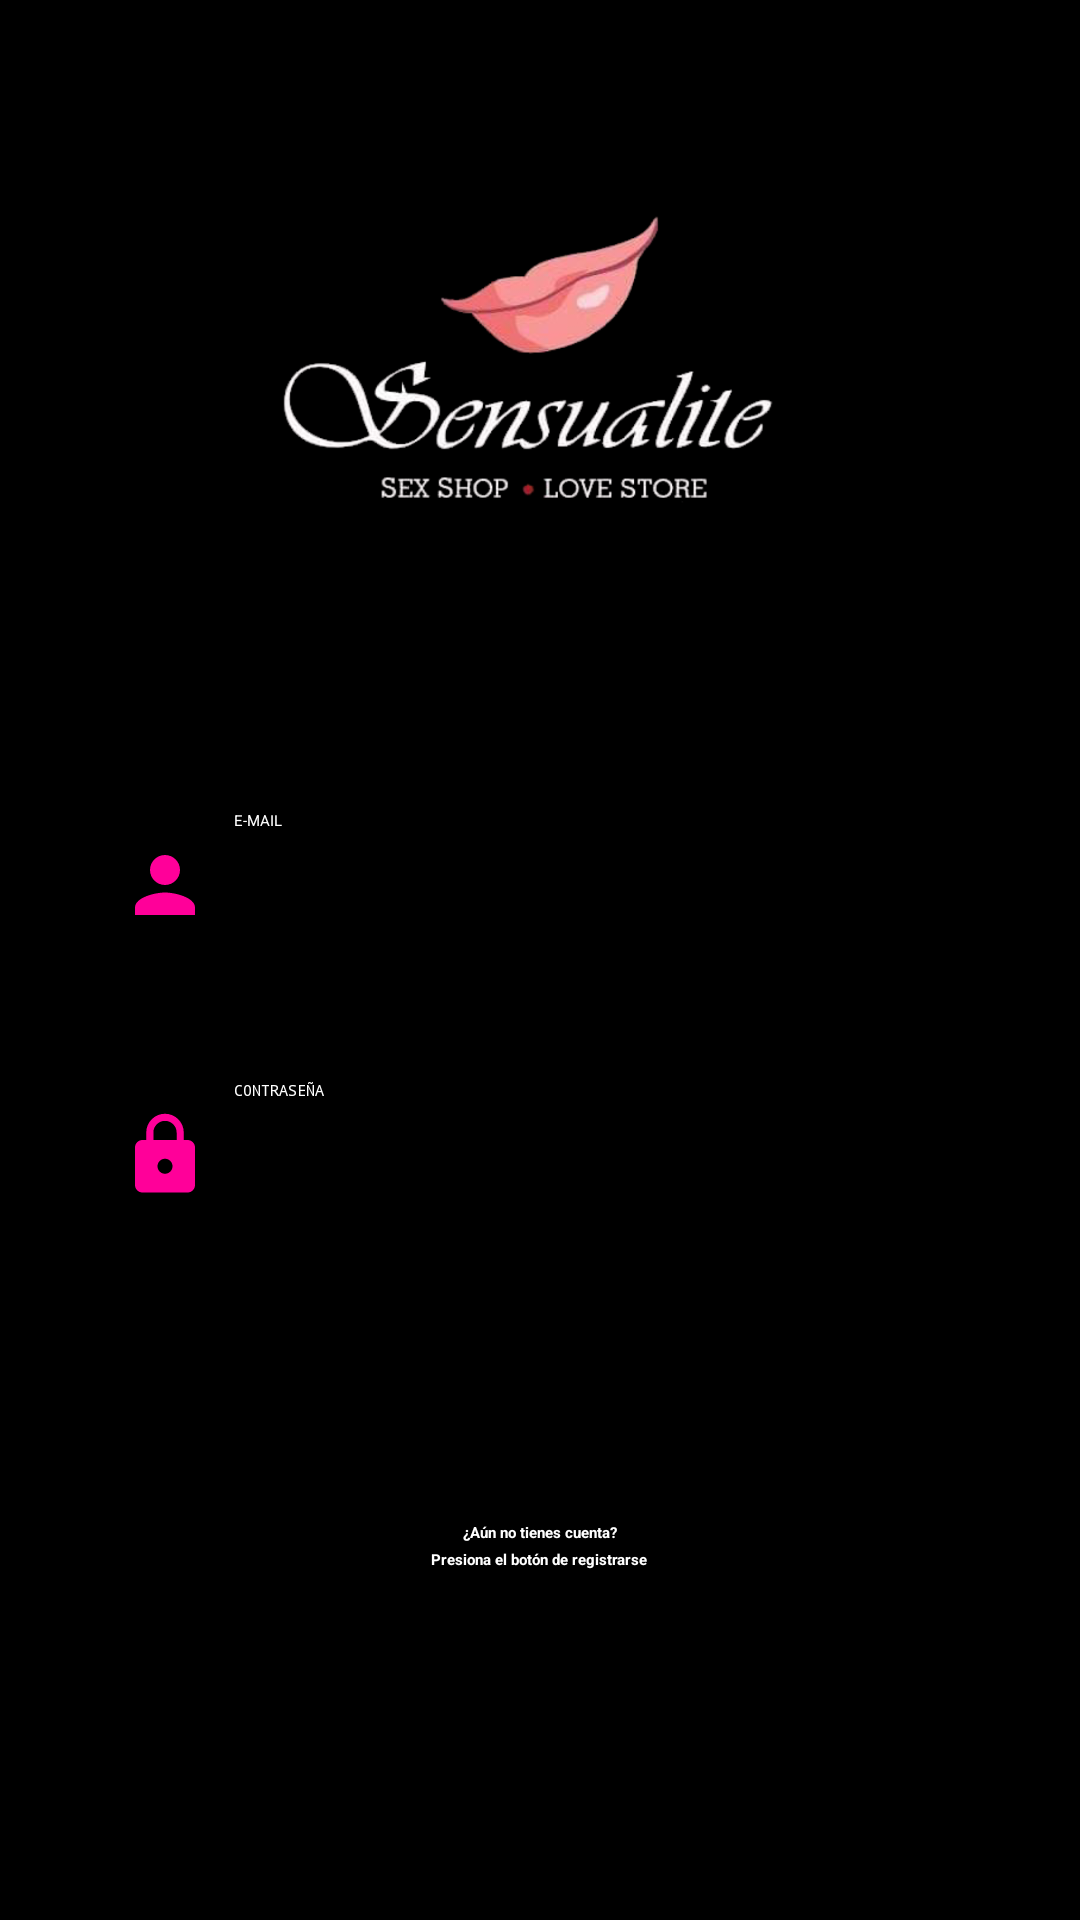

Screen size 1080w x 1920h. Icon name, then its center in pixels as (x=x, y=y):
lock: (x=165, y=1153)
person: (x=165, y=885)
